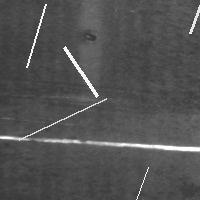scratches: (14, 93, 111, 144), (4, 131, 199, 153), (59, 42, 102, 101), (22, 0, 51, 72), (111, 162, 153, 200), (185, 0, 200, 38)
